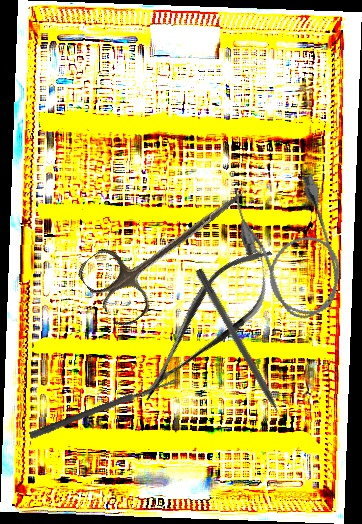Cannula: (226, 164, 355, 330)
Iris Scissors: (73, 160, 264, 332)
Micro Scissor: (119, 232, 294, 417)
Pusher: (193, 267, 292, 435)
Surgical Spoon: (28, 375, 180, 441)
